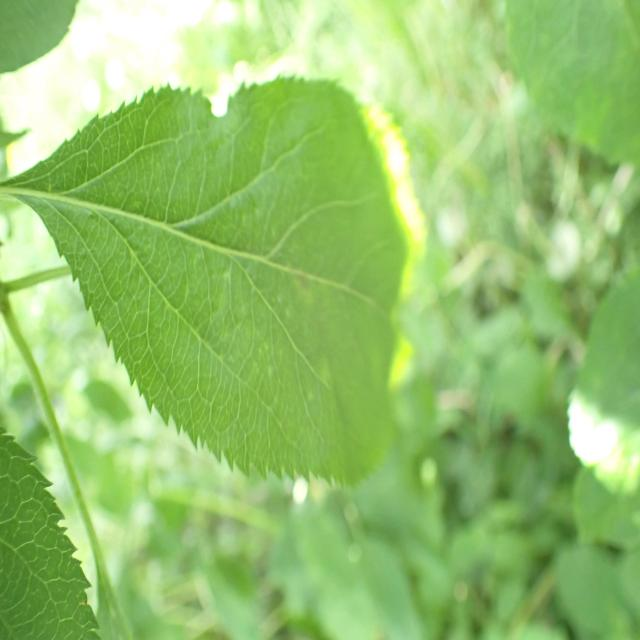scab: (115, 146, 393, 446)
